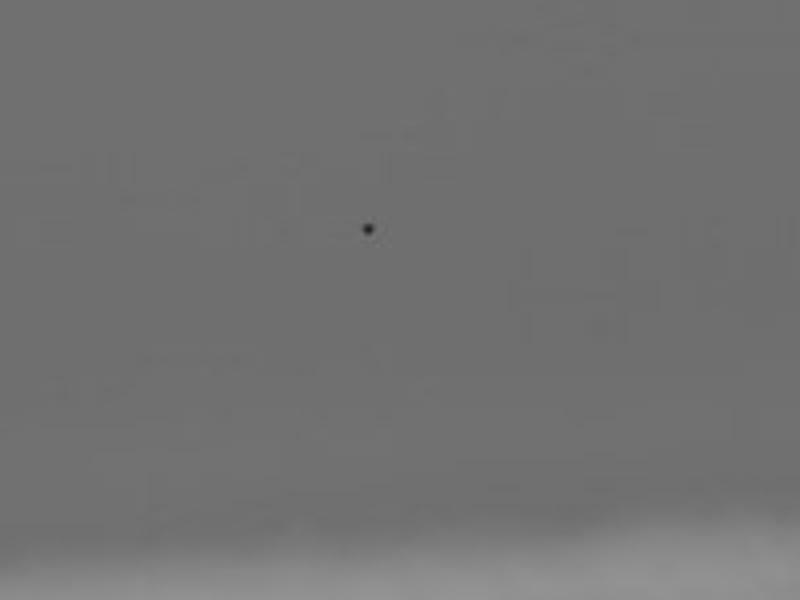defect: (359, 219, 381, 238)
